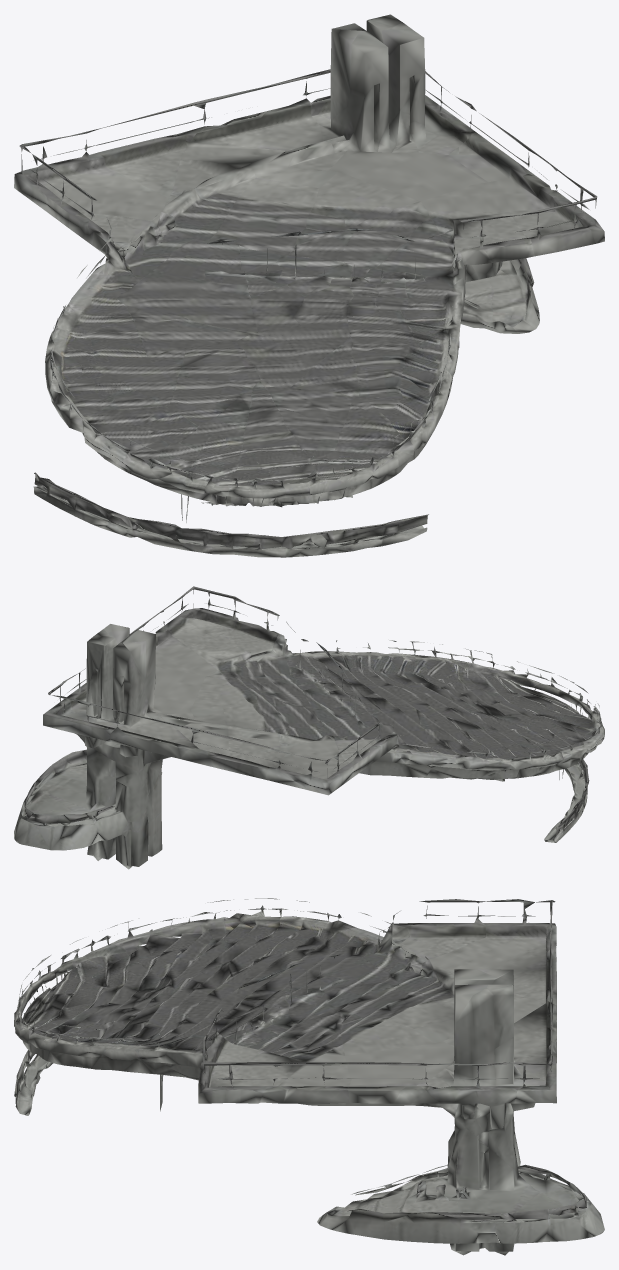
Rendered from overpass_p.glb.
The picture shows the model from 3 angles, top to bottom: view 1: azimuth 30°, elevation 25°; view 2: azimuth 150°, elevation 25°; view 3: azimuth 270°, elevation 25°; orthographic projection. The views are drawn at different scales.
Size of the model in its own units: 1.89 by 0.9423 by 1.89.
Materials: 1 (1 with a texture image).
